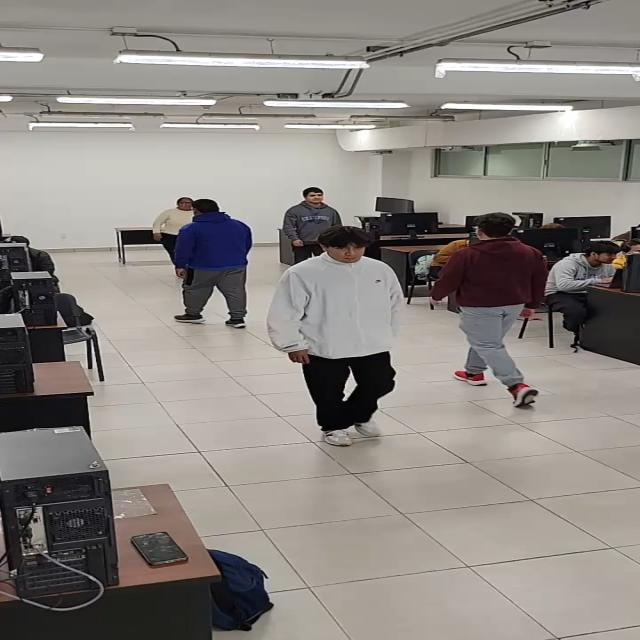Persona: (266, 225, 407, 445), (428, 212, 550, 407), (171, 198, 252, 328), (282, 188, 344, 267), (153, 196, 197, 258)
